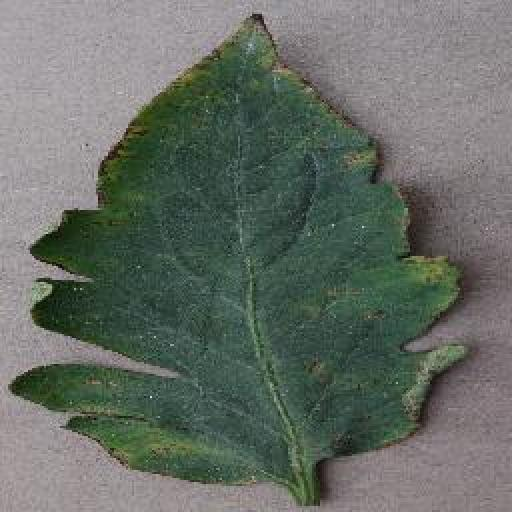Bacterial Spot: (2, 8, 474, 489)
